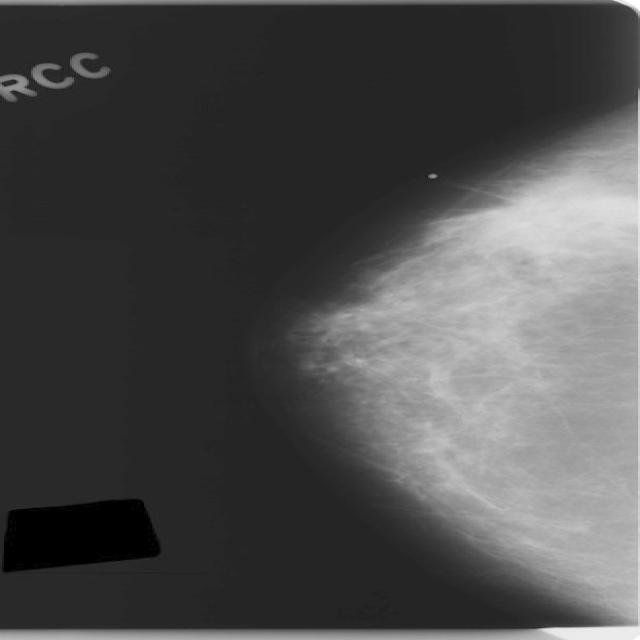tumour: (436, 168, 636, 253)
